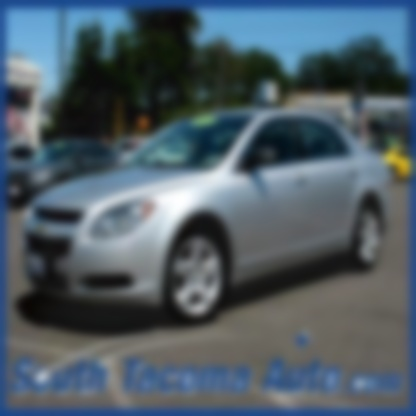Vehicle: (23, 108, 393, 328)
